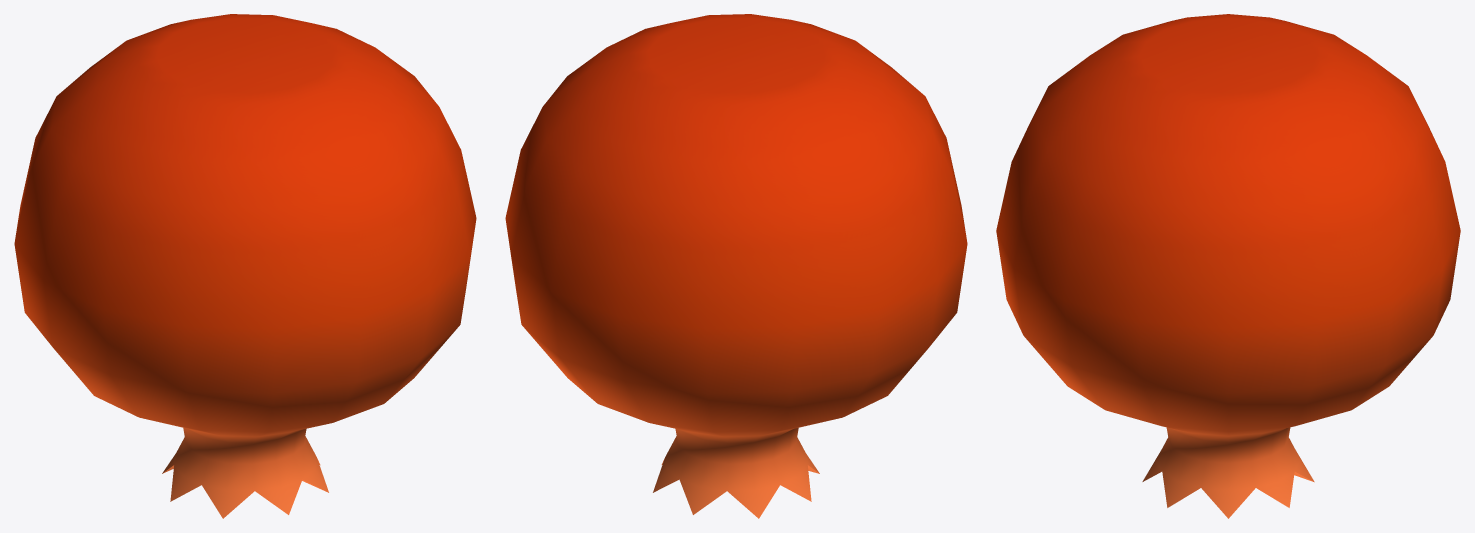
Rendered from Farm_Tree_Product_Pomegranate_01.fbx.
The picture shows the model from 3 angles, left to right: view 1: azimuth 30°, elevation 25°; view 2: azimuth 150°, elevation 25°; view 3: azimuth 270°, elevation 25°; orthographic projection.
Parts seen in each view (by area): view 1: Farm_Tree_Product_Pomegranate_01; view 2: Farm_Tree_Product_Pomegranate_01; view 3: Farm_Tree_Product_Pomegranate_01.
Part boxes in pixels (bbox=[...]): Farm_Tree_Product_Pomegranate_01: bbox=[14, 14, 476, 518]; Farm_Tree_Product_Pomegranate_01: bbox=[505, 14, 967, 518]; Farm_Tree_Product_Pomegranate_01: bbox=[996, 14, 1460, 518].
Size of the model in its own units: 36.5 by 36.98 by 36.5.
